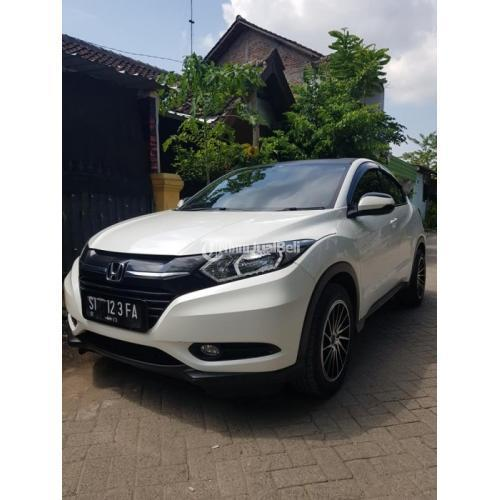plate: (85, 292, 145, 335)
